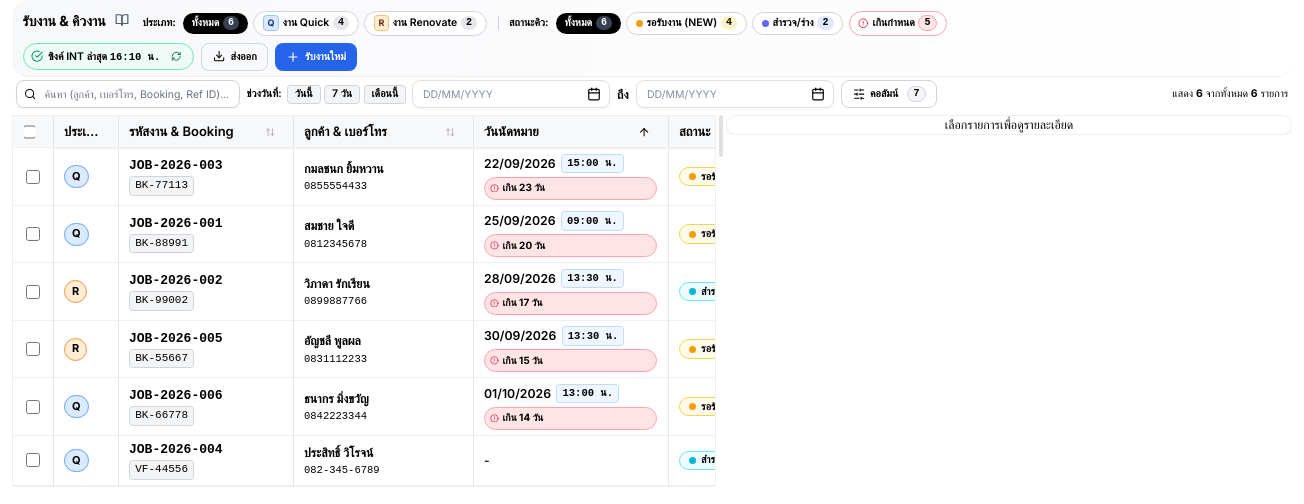
OrdersPage - Master List Features (R1, R2, R3, R5) › filters list accurately by Phone Number with or without hyphens (R1)
In the field with placeholder "ค้นหา (ลูกค้า, เบอร์โทร, Booking, Ref ID)...": (128, 94) x1=16 y1=80 x2=240 y2=108, type "0823456789"
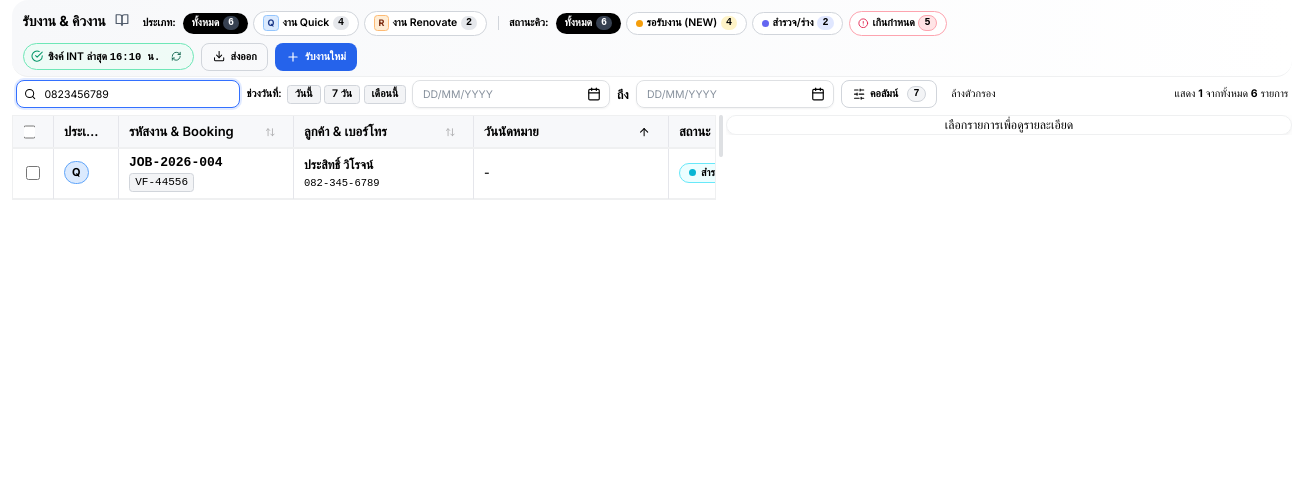
Expected: the text "ประสิทธิ์ วิโรจน์" is shown, x1=304 y1=157 x2=373 y2=172
Now the text "สมชาย ใจดี" is gone
